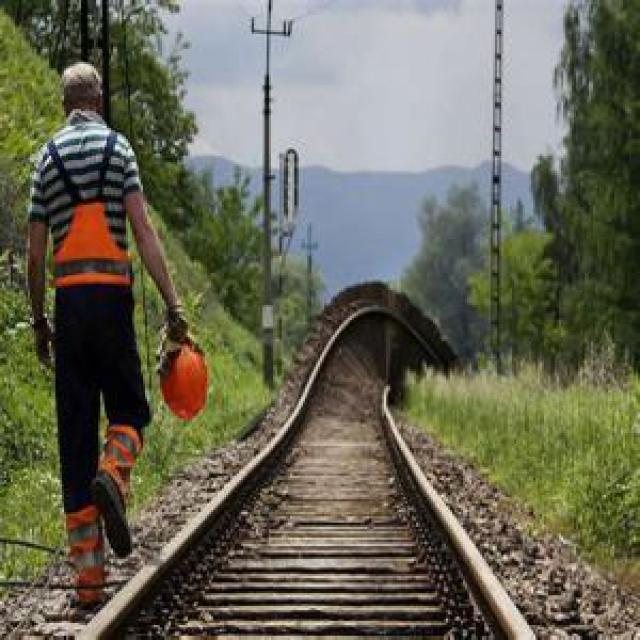danger: (26, 61, 213, 620)
rail: (41, 288, 554, 640)
